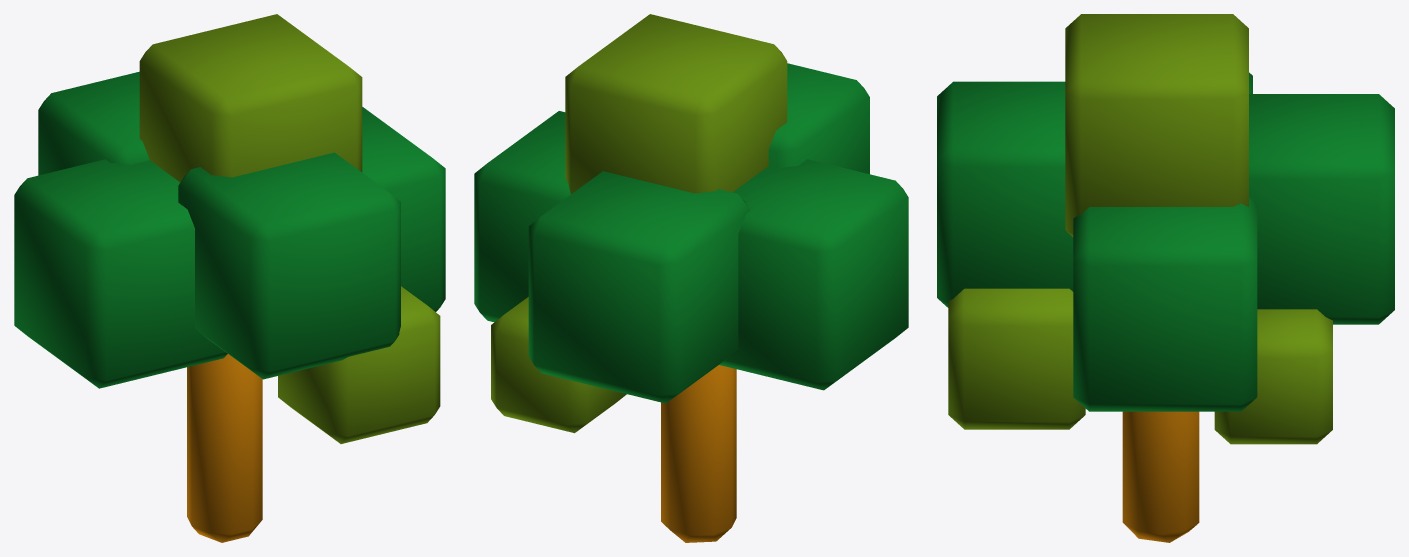
3 views of the same model, side by side, from view 1: azimuth 30°, elevation 25°; view 2: azimuth 150°, elevation 25°; view 3: azimuth 270°, elevation 25° (orthographic). The views are drawn at different scales.
Visible parts, largest first — view 1: 柱体; view 2: 柱体; view 3: 柱体.
Boxes of the visible parts, box(x1,y1,x2,y2) form: 柱体: box(14, 14, 445, 542); 柱体: box(474, 14, 908, 542); 柱体: box(937, 14, 1394, 542).
Size of the model in its own units: 9.28 by 11.56 by 9.63.
1 material, 1 textured.
